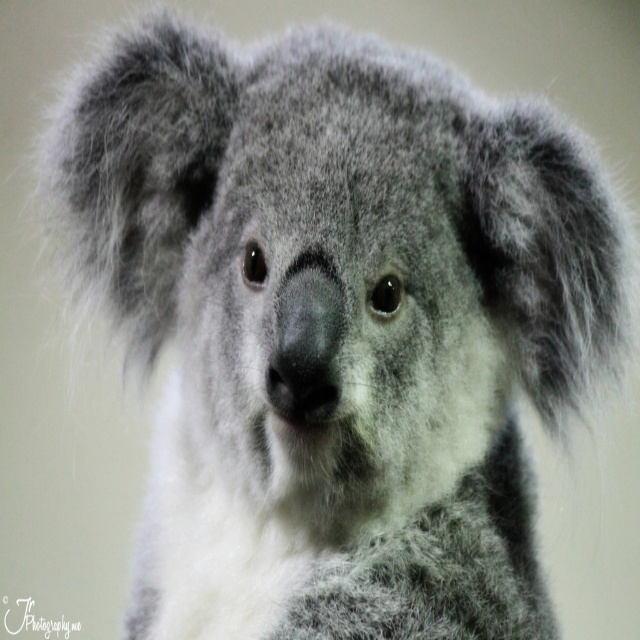Koala: (11, 2, 638, 640)
